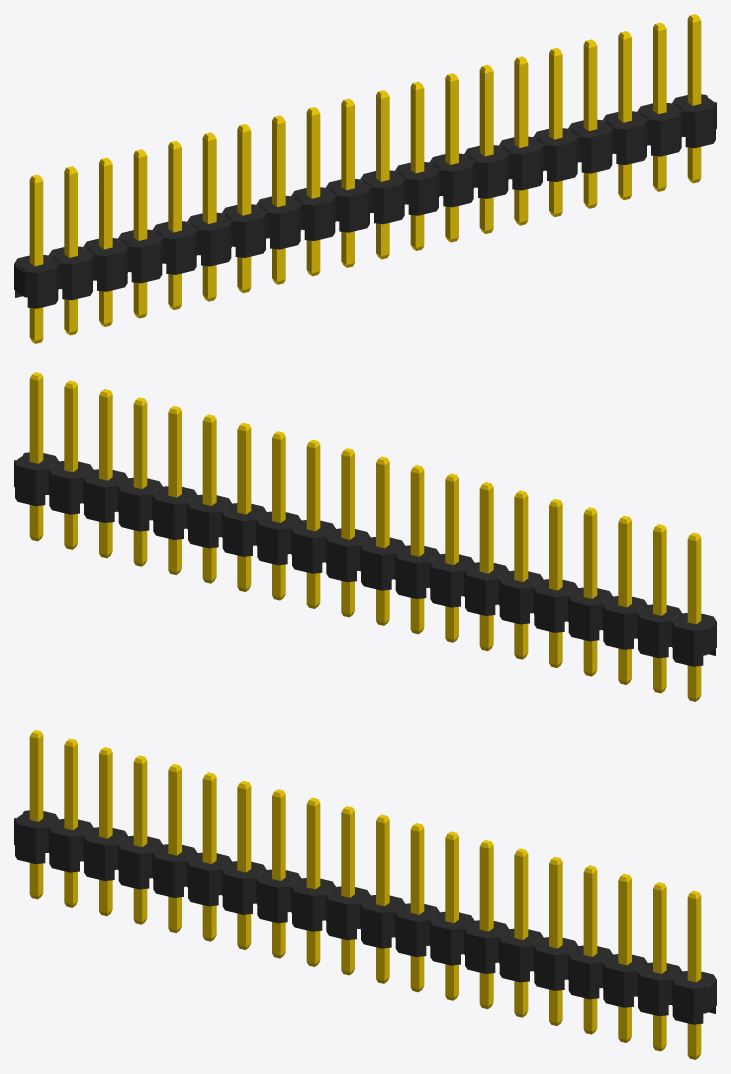
The model's file is PLS20.glb.
The picture shows the model from 3 angles, top to bottom: view 1: azimuth 30°, elevation 25°; view 2: azimuth 150°, elevation 25°; view 3: azimuth 330°, elevation 25°; orthographic projection.
Visible parts, largest first — view 1: PLS (DS1021 CONNFLY); view 2: PLS (DS1021 CONNFLY); view 3: PLS (DS1021 CONNFLY).
Part boxes in pixels (left/top/right/bottom): PLS (DS1021 CONNFLY): left=14, top=14, right=716, bottom=343; PLS (DS1021 CONNFLY): left=14, top=372, right=716, bottom=701; PLS (DS1021 CONNFLY): left=14, top=730, right=716, bottom=1059.
Size of the model in its own units: 0.0508 by 0.0116 by 0.00254.
